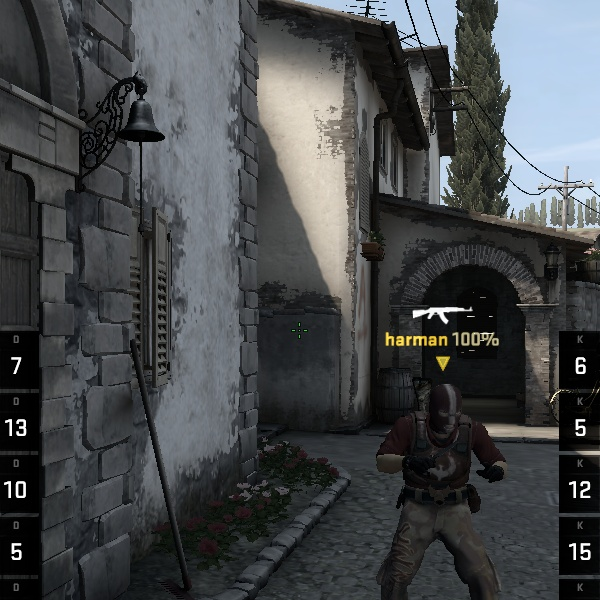t_body: (365, 375, 523, 596)
t_head: (410, 377, 473, 439)
